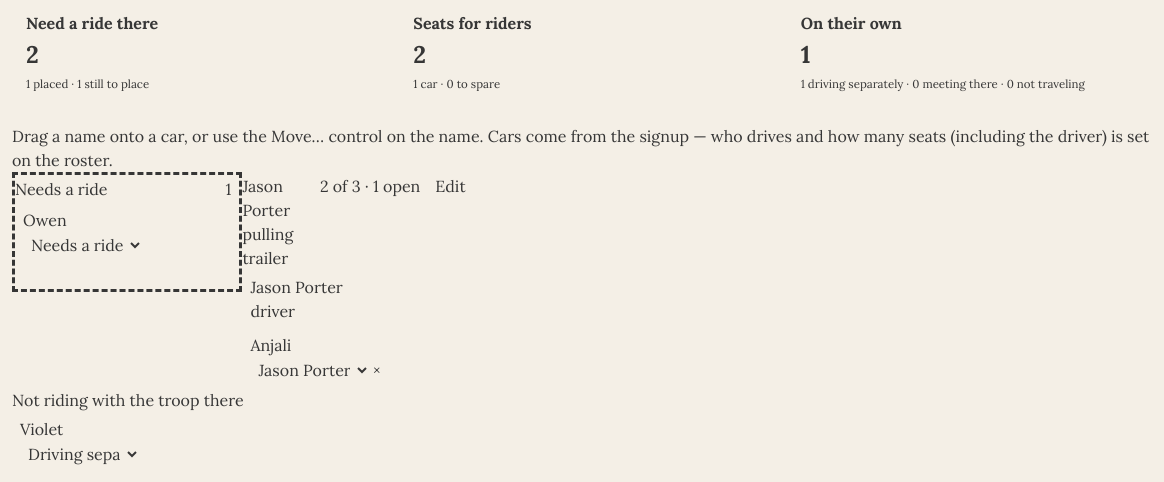
Scenario: AssignmentsBoard — any other set › CarBoard_OffersNoAddGroup_AndEditsOnlyTheNote
Click the button with aria-label "Edit Jason Porter": (451, 186) 428,172 -> 473,200
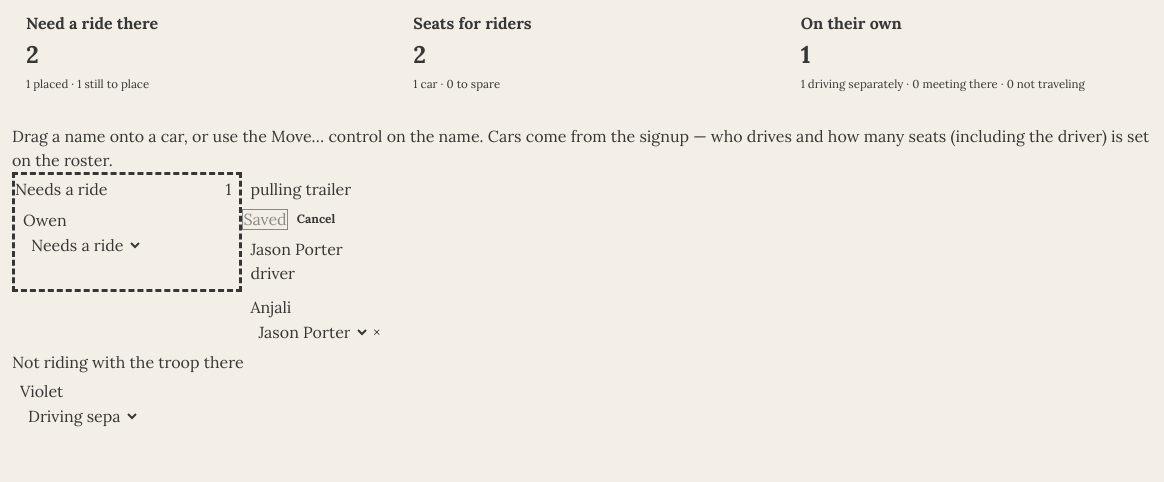
Result: the field named "Group note" is shown at 242,172 -> 473,206
